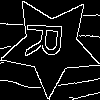R: (25, 20, 72, 59)
